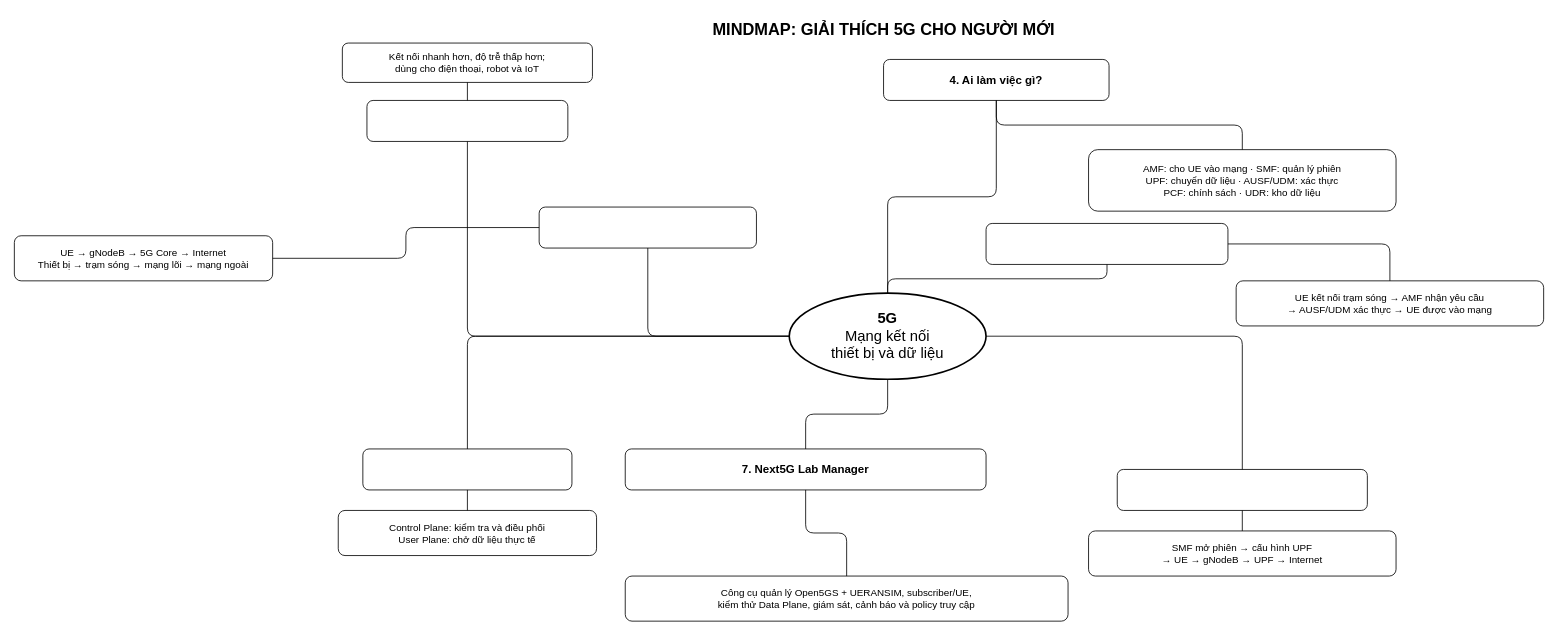
The diagram is 1558 pixels wide and 636 high, and some of its shapes have lost their labels. The shapes that lost their labels are listed below. From the top down, each one's box as (x1, y1, x2, y2) in pixels, then its label:
(366, 100, 568, 141): 1. 5G để làm gì?
(538, 206, 756, 248): 2. Đường đi cơ bản
(985, 223, 1228, 264): 5. Khi UE vào mạng
(362, 448, 572, 490): 3. Hai việc chính
(1116, 469, 1367, 510): 6. Khi UE dùng Internet
